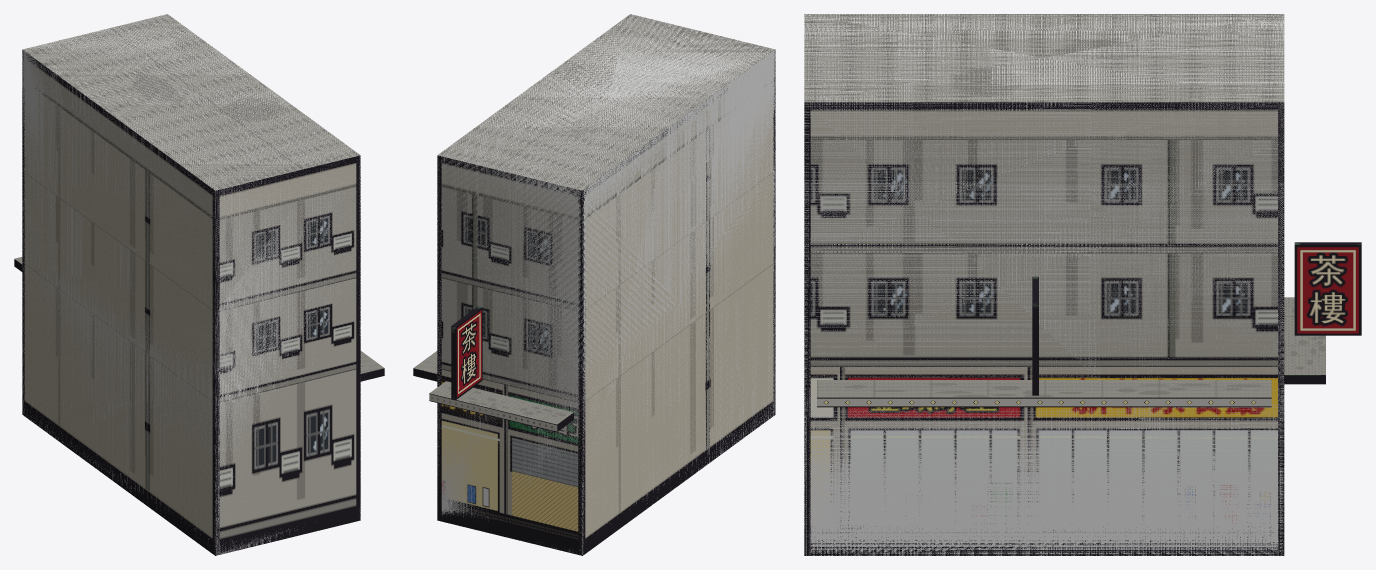
3 renders of one model, left to right at view 1: azimuth 30°, elevation 25°; view 2: azimuth 150°, elevation 25°; view 3: azimuth 270°, elevation 25°, orthographic. The views are drawn at different scales.
Visible parts, largest first — view 1: 19D-W08, COL_19D-W08_0; view 2: 19D-W08, COL_19D-W08_0; view 3: 19D-W08, COL_19D-W08_0.
Part boxes in pixels (bbox=[...]): 19D-W08: bbox=[14, 14, 384, 555]; COL_19D-W08_0: bbox=[22, 14, 360, 555]; 19D-W08: bbox=[413, 14, 775, 555]; COL_19D-W08_0: bbox=[437, 14, 775, 554]; 19D-W08: bbox=[804, 14, 1361, 555]; COL_19D-W08_0: bbox=[804, 14, 1284, 555].
Bounding box in the file's own units: 6.85 × 12 × 13.35.
1 material, 1 textured.
